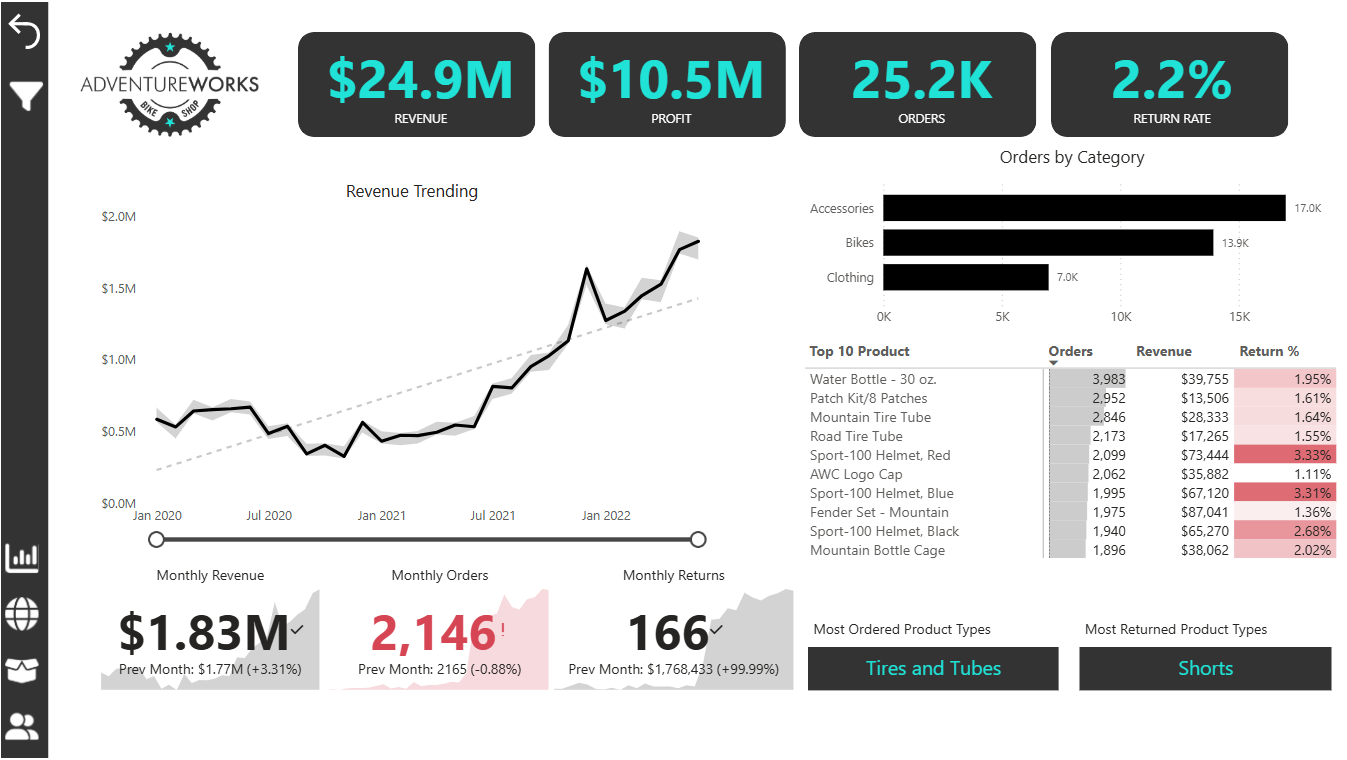

The page's visual inventory and layout, read from the dashboard file:
{"tool":"powerbi","page":{"name":"Exec Dashboard","canvas":[1280,720],"ordinal":0},"visuals":[{"type":"card","fields":{"Values":["Measure Table (2).Total Revenue"]},"box":[283.2,18.2,230.3,117.6],"z":0,"group":"g2"},{"type":"image","title":"AW Logo","box":[45.2,21.4,231,114.3],"z":0},{"type":"group","id":"g1","title":"KPI Background","box":[282.5,28.6,942.9,100],"z":0,"group":"g3"},{"type":"shape","box":[282.5,28.6,226.2,100],"z":0,"group":"g1"},{"type":"actionButton","box":[0,510.2,99.4,39.8],"z":0,"group":"g4"},{"type":"shape","title":"Left Nav Background","box":[0,0,45,720],"z":1000},{"type":"group","id":"g2","title":"KPI Values","box":[283.2,18.2,945.9,117.6],"z":1000,"group":"g3"},{"type":"card","fields":{"Values":["Measure Table (2).Total profit"]},"box":[521.7,18.2,230.3,117.6],"z":1000,"group":"g2"},{"type":"shape","box":[521.4,28.6,226.2,100],"z":1000,"group":"g1"},{"type":"actionButton","box":[0,563.8,99.4,39.8],"z":1000,"group":"g4"},{"type":"group","id":"g3","title":"KPIs","box":[282.5,18.2,946.6,117.6],"z":2000},{"type":"card","fields":{"Values":["Measure Table (2).Total Orders"]},"box":[760.3,18.2,230.3,117.6],"z":2000,"group":"g2"},{"type":"shape","box":[760.3,28.6,226.2,100],"z":2000,"group":"g1"},{"type":"actionButton","box":[0,617.3,99.4,39.8],"z":2000,"group":"g4"},{"type":"card","fields":{"Values":["Measure Table (2).Return Rate"]},"box":[998.8,18.2,230.3,117.6],"z":3000,"group":"g2"},{"type":"shape","box":[999.2,28.6,226.2,100],"z":3000,"group":"g1"},{"type":"lineChart","title":"Revenue Trending","fields":{"Y":["Measure Table (2).Total Revenue"],"Category":["Calendar Lookup.Start of Month"]},"box":[89.4,169,603,354.5],"z":3000},{"type":"actionButton","box":[0,670.9,99.4,39.8],"z":3000,"group":"g4"},{"type":"kpi","title":"Monthly Revenue","fields":{"Indicator":["Measure Table (2).Total Revenue"],"TrendLine":["Calendar Lookup.Start of Month"],"Goal":["Measure Table (2).Previous Month Revenue"]},"box":[89.4,535,218.7,124.2],"z":4000},{"type":"kpi","title":"Monthly Orders","fields":{"TrendLine":["Calendar Lookup.Start of Month"],"Indicator":["Measure Table (2).Total Orders"],"Goal":["Measure Table (2).Previous Month Orders"]},"box":[308.1,535,218.7,124.2],"z":5000},{"type":"kpi","title":"Monthly Returns","fields":{"TrendLine":["Calendar Lookup.Start of Month"],"Goal":["Measure Table (2).Previous Month Revenue"],"Indicator":["Measure Table (2).Total Returned"]},"box":[521.8,535,238.5,124.2],"z":6000},{"type":"clusteredBarChart","title":"Orders by Category","fields":{"Category":["Product Categories Lookup.CategoryName"],"Y":["Measure Table (2).Total Orders"]},"box":[760.3,135.8,520.1,182.2],"z":7000},{"type":"pivotTable","fields":{"Rows":["Product Lookup.ProductName"],"Values":["Measure Table (2).Total Orders","Measure Table (2).Total Revenue","Measure Table (2).Return Rate"]},"box":[759.7,317.5,519.7,217.3],"z":8000},{"type":"textbox","box":[768.6,581.4,238.5,29.8],"z":9000},{"type":"textbox","box":[1027.7,581.6,237,29.9],"z":10000},{"type":"card","title":"Most Ordered Product Type","fields":{"Values":["Min(Product Subcategories Lookup.SubcategoryName)"]},"box":[768.6,614.6,238.5,41.4],"z":11000},{"type":"card","title":"Most Ordered Product Type","fields":{"Values":["Min(Product Subcategories Lookup.SubcategoryName)"]},"box":[1027,614.6,240.2,41.4],"z":12000},{"type":"actionButton","box":[0,0,44.7,54.9],"z":13000},{"type":"group","id":"g4","title":"Navigations","box":[0,510.2,99.4,200.4],"z":14000},{"type":"actionButton","box":[5,69.6,44.7,39.8],"z":15000}]}

Visuals, with their boxes on the page's 1280x720 design canvas (x1, y1, x2, y2). These are canvas units, not pixel positions in the 1347x760 screenshot, which may show the page scaled, cropped or inside an application window:
card - Measure Table (2).Total Revenue: bbox(283, 18, 514, 136)
"AW Logo" image: bbox(45, 21, 276, 136)
"KPI Background" group: bbox(282, 29, 1225, 129)
shape: bbox(282, 29, 509, 129)
actionButton: bbox(0, 510, 99, 550)
"Left Nav Background" shape: bbox(0, 0, 45, 720)
"KPI Values" group: bbox(283, 18, 1229, 136)
card - Measure Table (2).Total profit: bbox(522, 18, 752, 136)
shape: bbox(521, 29, 748, 129)
actionButton: bbox(0, 564, 99, 604)
"KPIs" group: bbox(282, 18, 1229, 136)
card - Measure Table (2).Total Orders: bbox(760, 18, 991, 136)
shape: bbox(760, 29, 986, 129)
actionButton: bbox(0, 617, 99, 657)
card - Measure Table (2).Return Rate: bbox(999, 18, 1229, 136)
shape: bbox(999, 29, 1225, 129)
"Revenue Trending" lineChart: bbox(89, 169, 692, 524)
actionButton: bbox(0, 671, 99, 711)
"Monthly Revenue" kpi: bbox(89, 535, 308, 659)
"Monthly Orders" kpi: bbox(308, 535, 527, 659)
"Monthly Returns" kpi: bbox(522, 535, 760, 659)
"Orders by Category" clusteredBarChart: bbox(760, 136, 1280, 318)
pivotTable - Product Lookup.ProductName x Measure Table (2).Total Orders: bbox(760, 318, 1279, 535)
textbox: bbox(769, 581, 1007, 611)
textbox: bbox(1028, 582, 1265, 612)
"Most Ordered Product Type" card: bbox(769, 615, 1007, 656)
"Most Ordered Product Type" card: bbox(1027, 615, 1267, 656)
actionButton: bbox(0, 0, 45, 55)
"Navigations" group: bbox(0, 510, 99, 711)
actionButton: bbox(5, 70, 50, 109)
